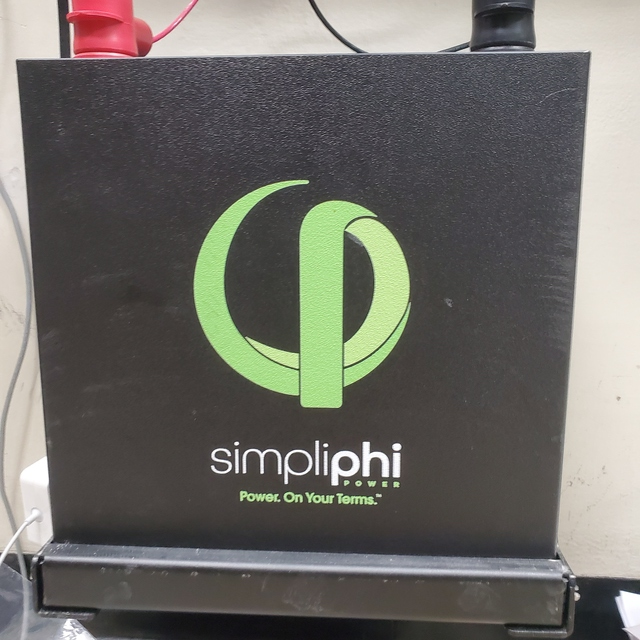battery: (10, 1, 597, 640)
